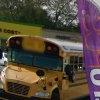buses: (1, 33, 86, 99)
